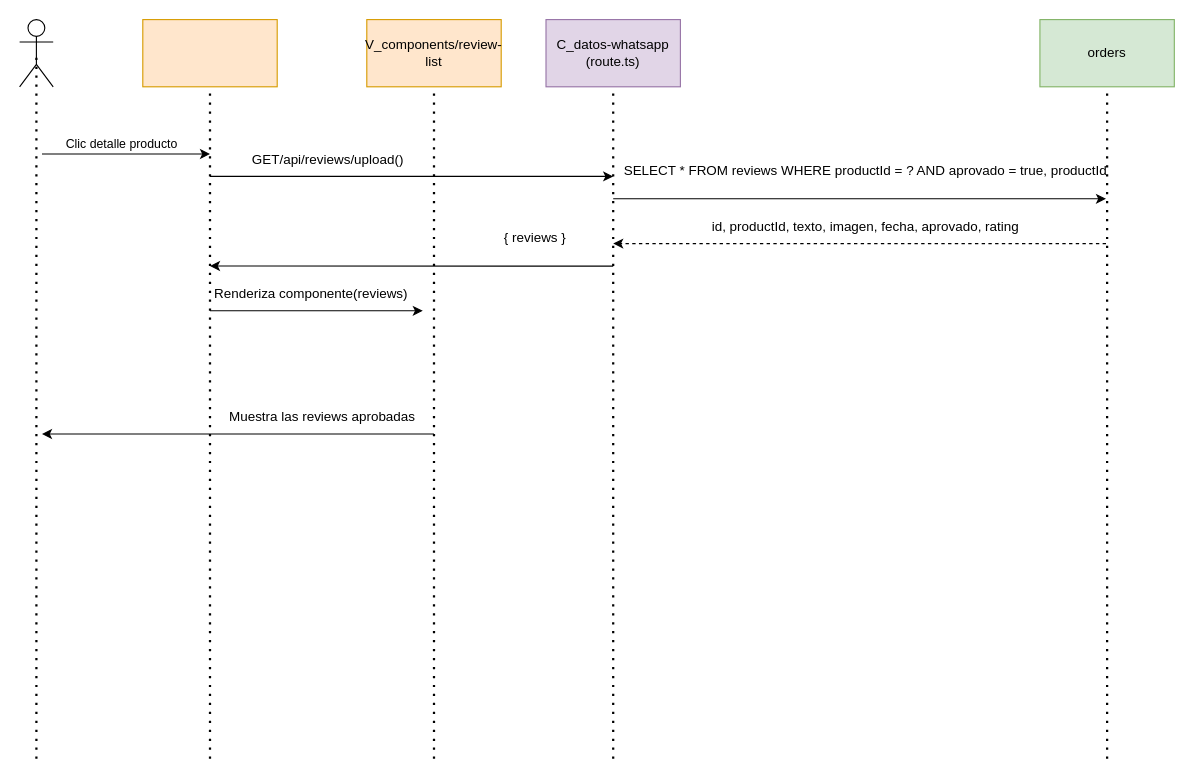
Some shapes in this 1194 by 781 pixel diagram are drawn without their labels. The centre of each missing label's shape, as x and y in pixels:
Actor: point (35, 52)
V_producto/id: point (209, 52)
